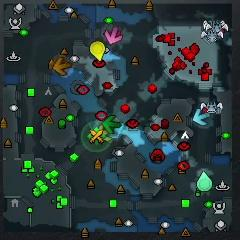p2: (197, 171, 213, 191)
p4: (90, 42, 104, 61)
x1: (105, 25, 122, 44)
x2: (97, 124, 112, 142)
x3: (193, 109, 211, 126)
x4: (103, 115, 123, 134)
x5: (53, 57, 72, 76)
